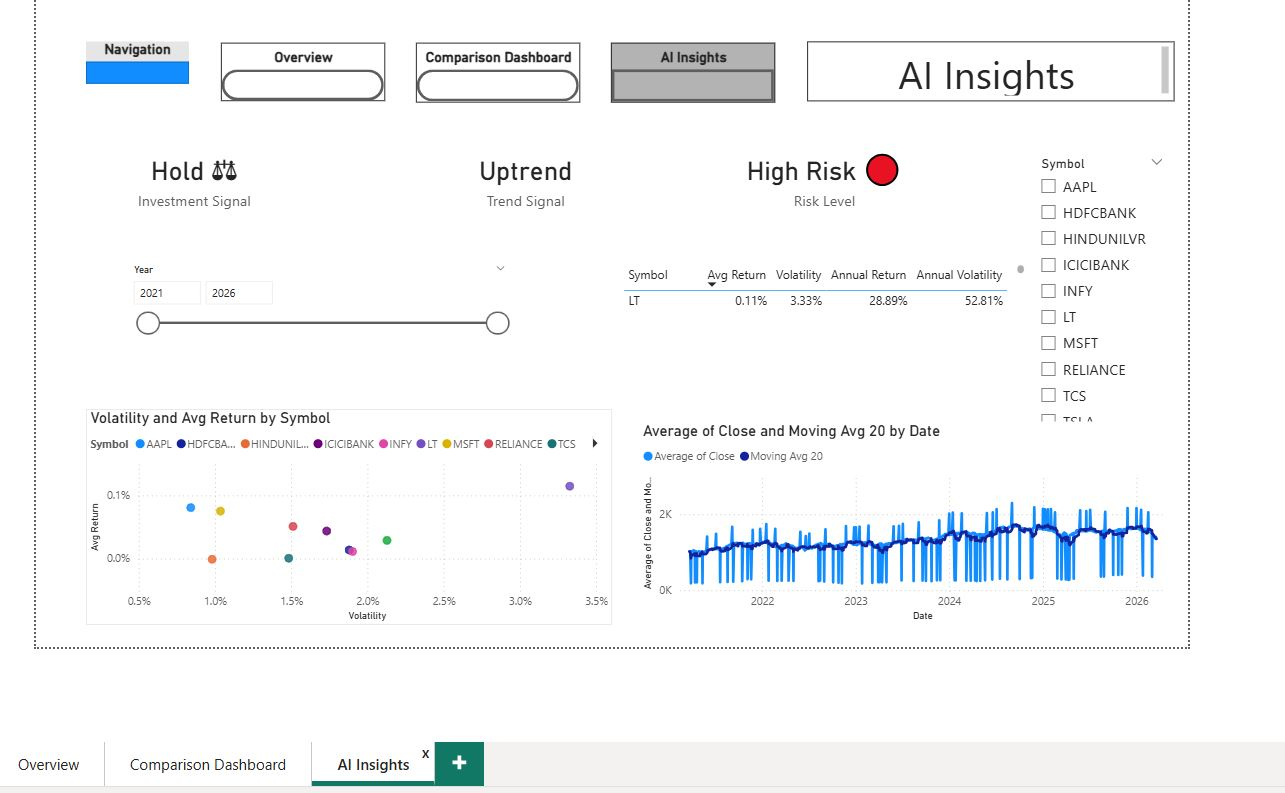

The dashboard page shown, as its layout file describes it:
{"tool":"powerbi","page":{"name":"AI Insights","canvas":[1280,720],"ordinal":2},"visuals":[{"type":"slicer","fields":{"Values":["Combine_data.Symbol"]},"box":[1103.8,170,160,321.2],"z":0},{"type":"slicer","fields":{"Values":["Combine_data.Year"]},"box":[55.5,289.5,477.8,91.7],"z":1000},{"type":"lineChart","fields":{"Y":["Avg(Combine_data.Close)","Combine_data.Moving Avg 20"],"Category":["Combine_data.Date"]},"box":[670,468.8,593.8,227.5],"z":2000},{"type":"scatterChart","fields":{"X":["Combine_data.Volatility"],"Y":["Combine_data.Avg Return"],"Series":["Combine_data.Symbol"]},"box":[55,455,585,241.2],"z":3000},{"type":"card","fields":{"Values":["Combine_data.Trend Signal"]},"box":[419.8,142.4,249.7,115.8],"z":4000},{"type":"card","fields":{"Values":["Combine_data.Risk Level"]},"box":[705.8,142.4,341.4,115.8],"z":5000},{"type":"card","fields":{"Values":["Combine_data.Investment Signal"]},"box":[55.5,142.4,241.3,115.8],"z":6000},{"type":"tableEx","fields":{"Values":["Combine_data.Symbol","Combine_data.Avg Return","Combine_data.Volatility","Combine_data.Annual Return","Combine_data.Annual Volatility"]},"box":[647.5,290,456.2,57.5],"z":7000},{"type":"textbox","box":[856.6,47.1,407.8,66.4],"z":11000},{"type":"pageNavigator","box":[55.5,47.1,783,66.4],"z":11001}]}

Visuals, with their boxes on the page's 1280x720 design canvas (x1, y1, x2, y2). These are canvas units, not pixel positions in the 1285x793 screenshot, which may show the page scaled, cropped or inside an application window:
slicer - Combine_data.Symbol: bbox(1104, 170, 1264, 491)
slicer - Combine_data.Year: bbox(56, 290, 533, 381)
lineChart - Avg(Combine_data.Close) x Combine_data.Moving Avg 20: bbox(670, 469, 1264, 696)
scatterChart - Combine_data.Volatility x Combine_data.Avg Return: bbox(55, 455, 640, 696)
card - Combine_data.Trend Signal: bbox(420, 142, 670, 258)
card - Combine_data.Risk Level: bbox(706, 142, 1047, 258)
card - Combine_data.Investment Signal: bbox(56, 142, 297, 258)
tableEx - Combine_data.Symbol x Combine_data.Avg Return: bbox(648, 290, 1104, 348)
textbox: bbox(857, 47, 1264, 114)
pageNavigator: bbox(56, 47, 838, 114)
